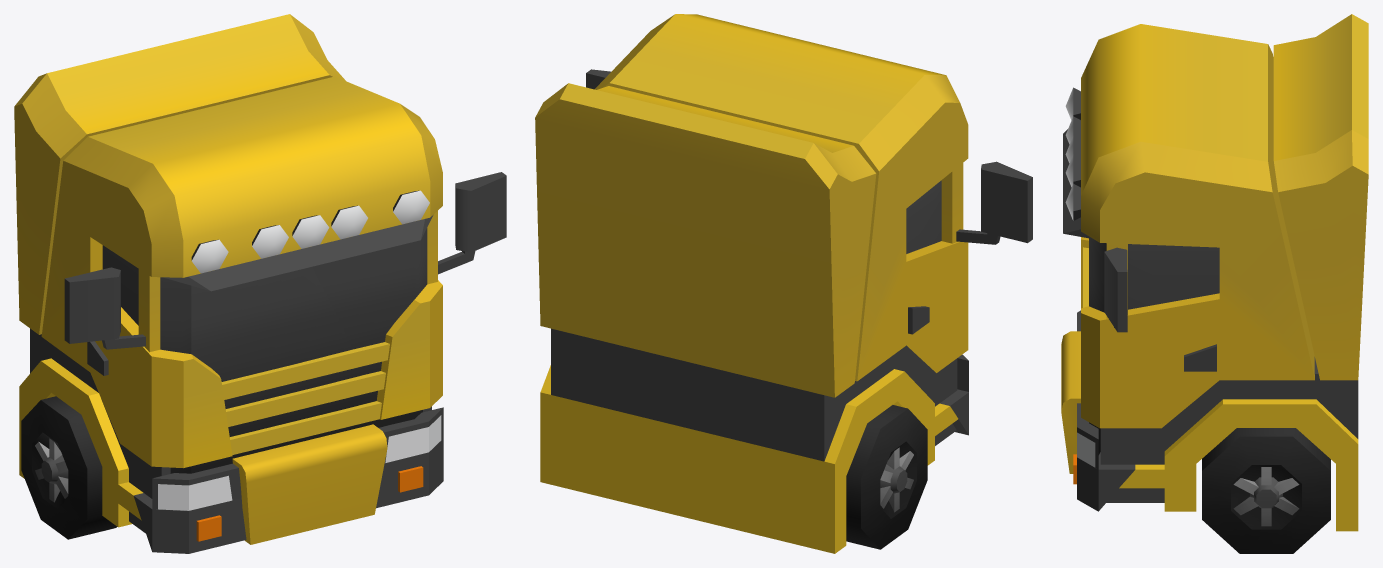
The model's file is head_E_1.fbx.
3 views of the same model, side by side, from view 1: azimuth 30°, elevation 25°; view 2: azimuth 150°, elevation 25°; view 3: azimuth 270°, elevation 25° (orthographic). The views are drawn at different scales.
Visible parts, largest first — view 1: head_E_1; view 2: head_E_1; view 3: head_E_1.
Part boxes in pixels (x1=…): head_E_1: x1=14, y1=14, x2=506, y2=553; head_E_1: x1=535, y1=14, x2=1032, y2=553; head_E_1: x1=1061, y1=14, x2=1368, y2=553.
Bounding box in the file's own units: 1736 × 1578 × 1081.
